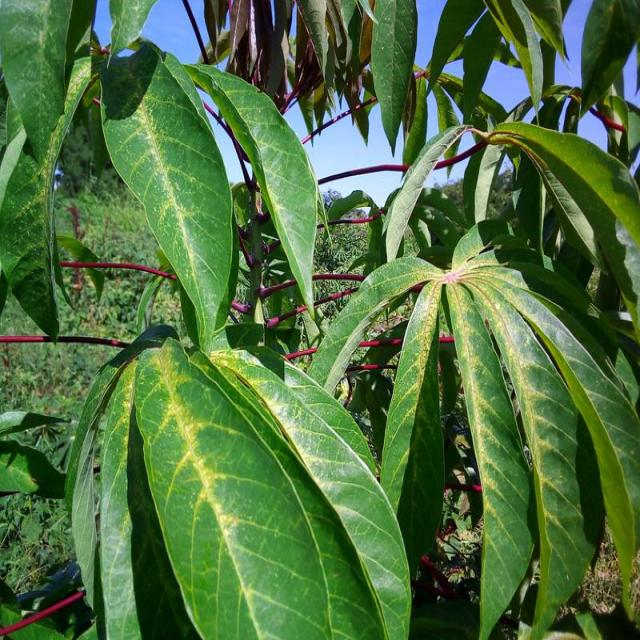cassava leaf: (131, 337, 412, 638), (99, 40, 238, 351)
